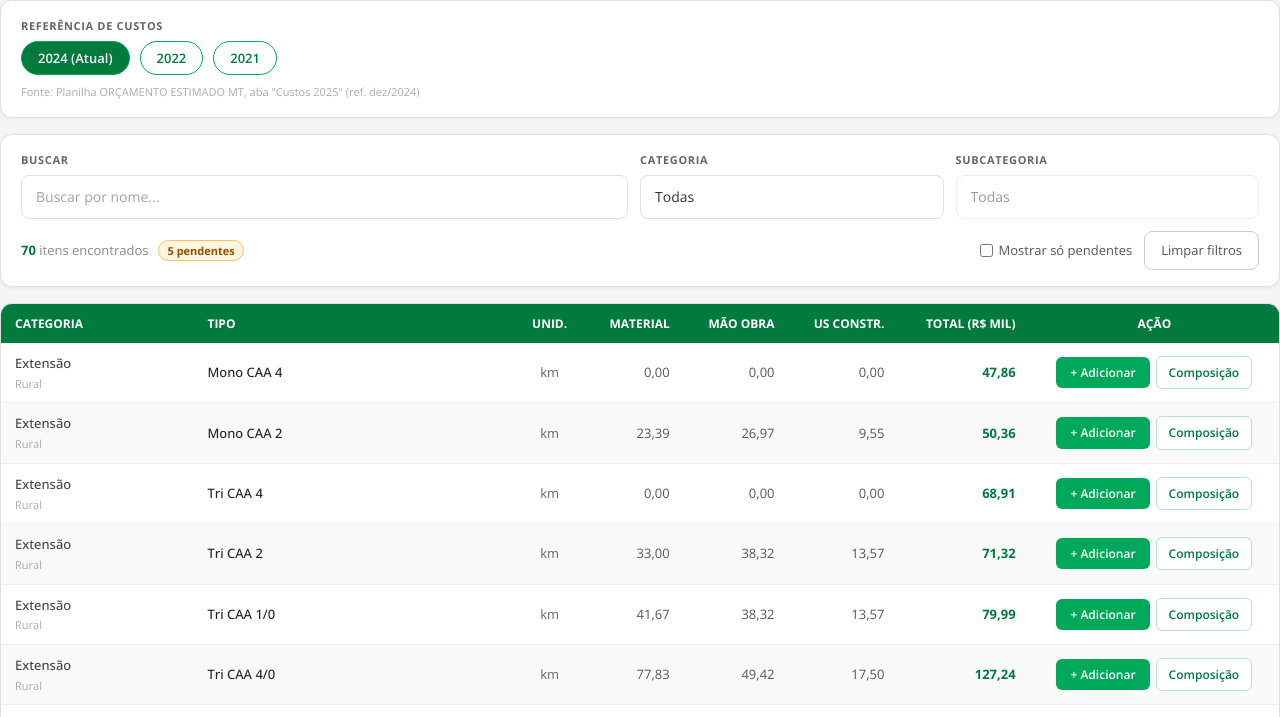
Test: Etapa 5 — botão na Biblioteca › cada item tem o botão Composição, que abre o diálogo
Click the button "Composição" in the row of "Mono CAA 4".
click(1204, 373)  # box [1156,356,1252,389]
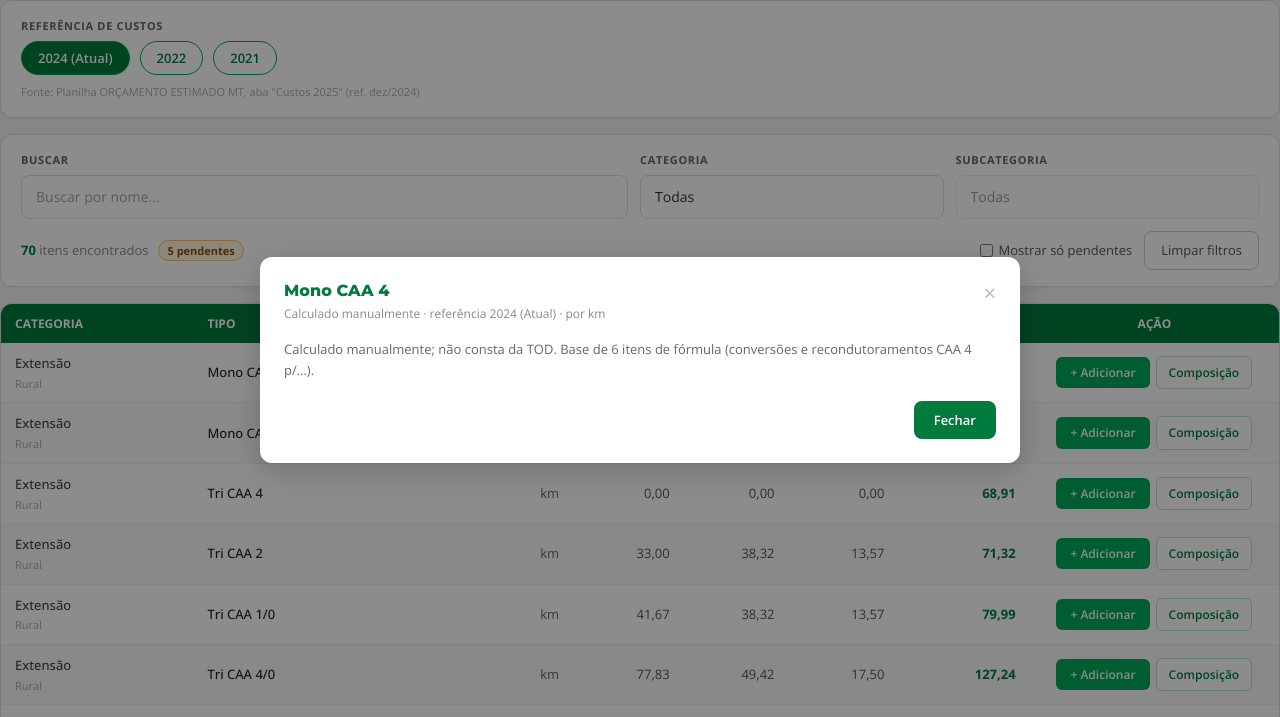
Result: the text "Calculado manualmente · referência 2024 (Atual) · por km" is shown at [284,304,606,323]
